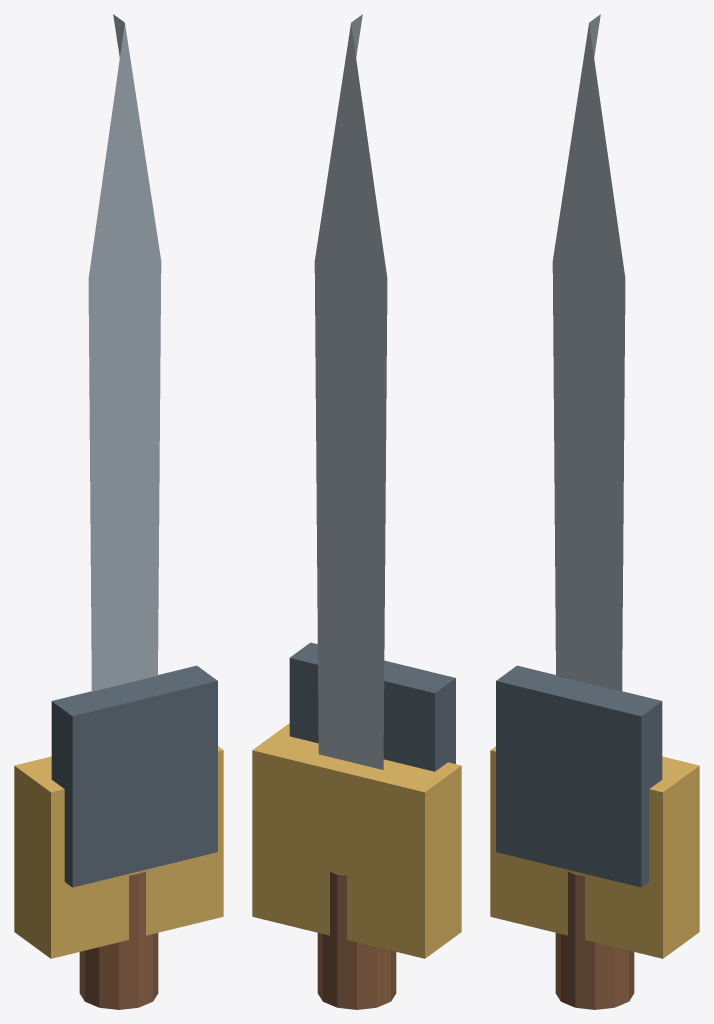
File: patta.glb
The picture shows the model from 3 angles, left to right: view 1: azimuth 30°, elevation 25°; view 2: azimuth 150°, elevation 25°; view 3: azimuth 330°, elevation 25°; orthographic projection.
Visible parts, largest first — view 1: Patta; view 2: Patta; view 3: Patta.
Part boxes in pixels (x1,y1,x2,y2): Patta: (14, 14, 223, 1009); Patta: (252, 14, 461, 1009); Patta: (490, 14, 699, 1009).
Bounding box in the file's own units: 0.38 × 2.05 × 0.175.
